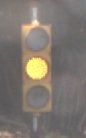Yellow: (19, 7, 54, 122)
